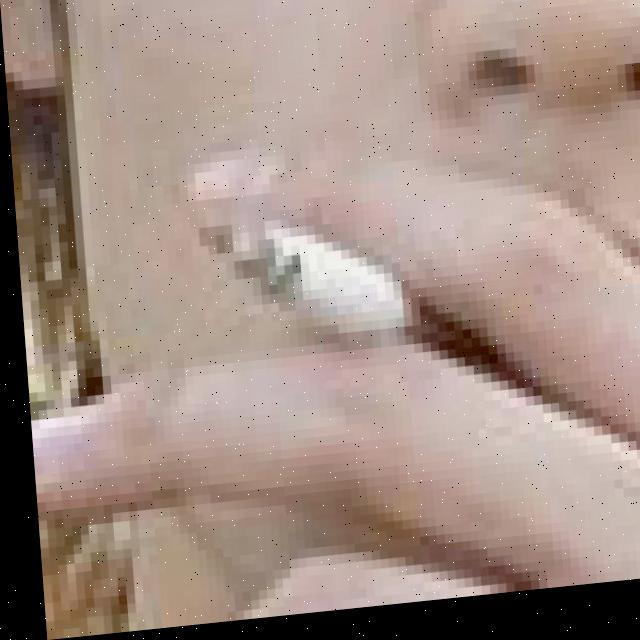cigarette: (196, 211, 412, 365)
